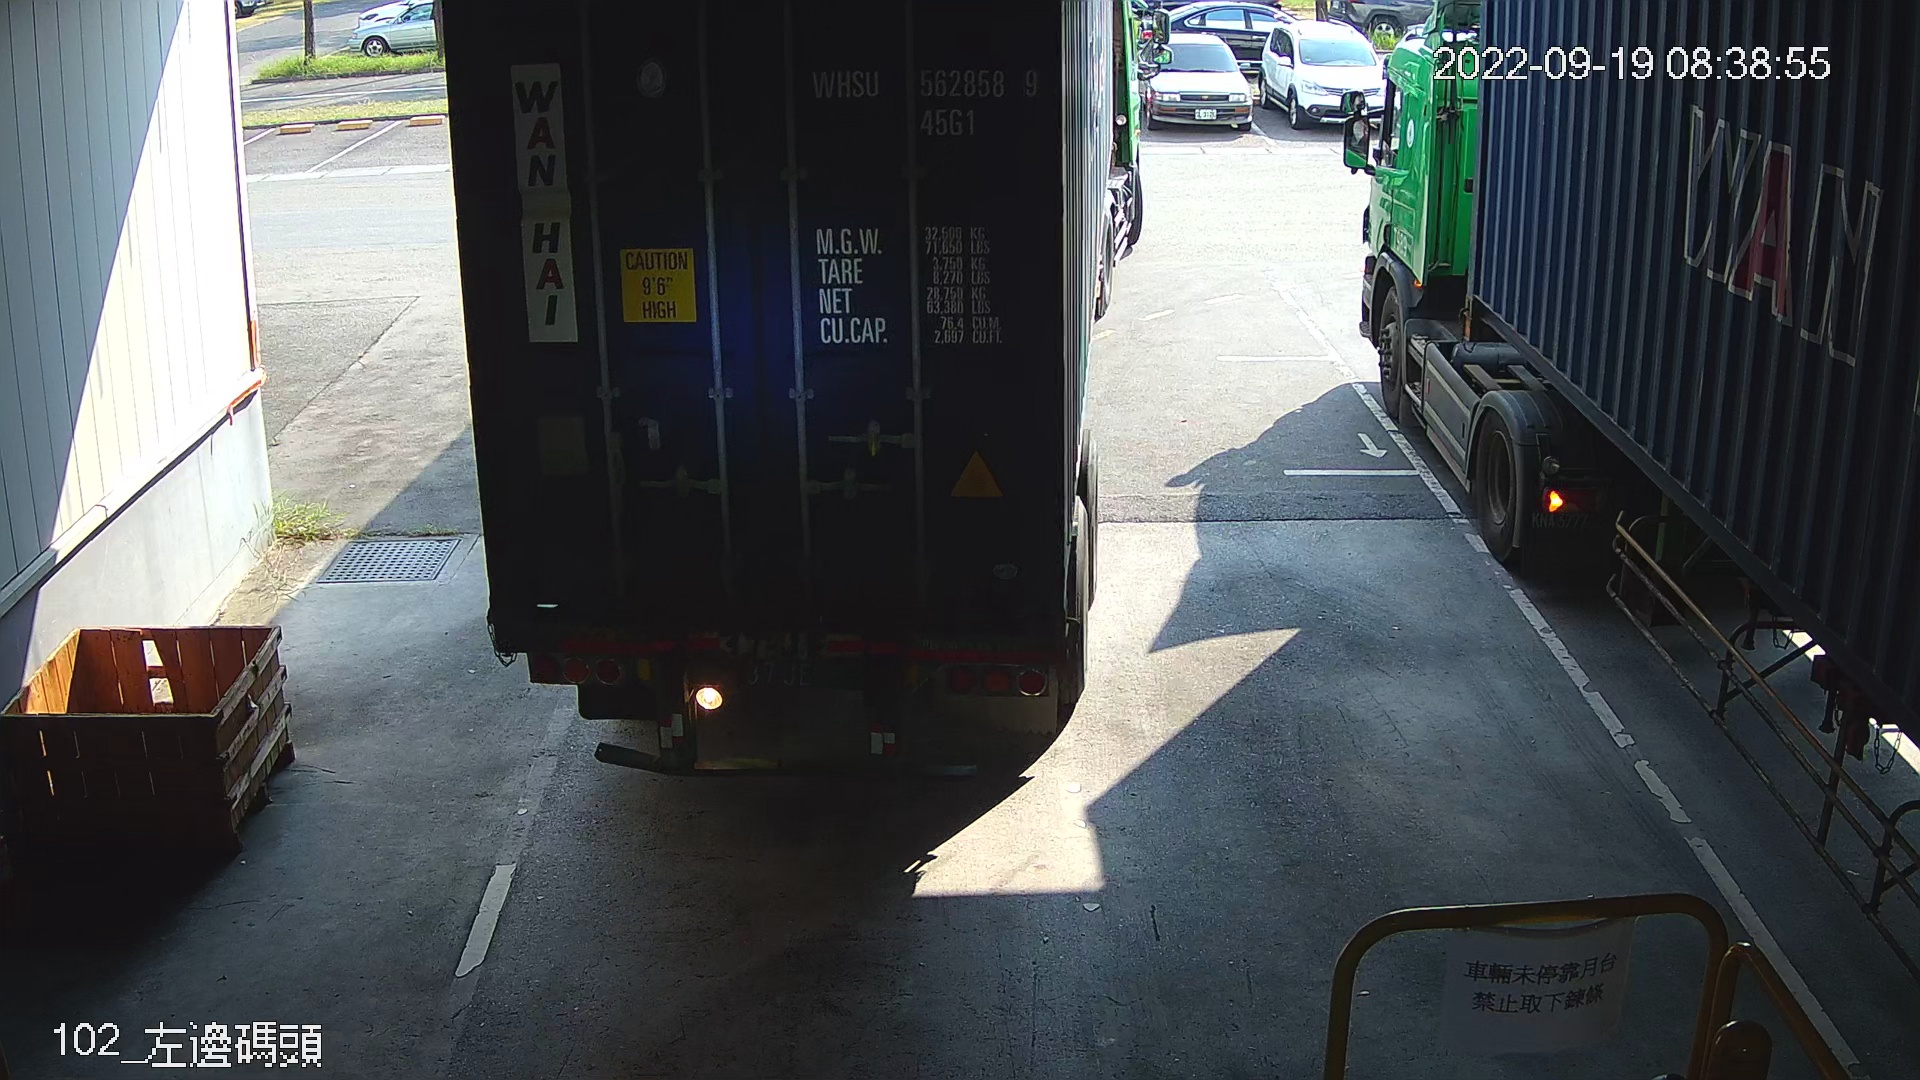container: (804, 51, 1050, 144)
